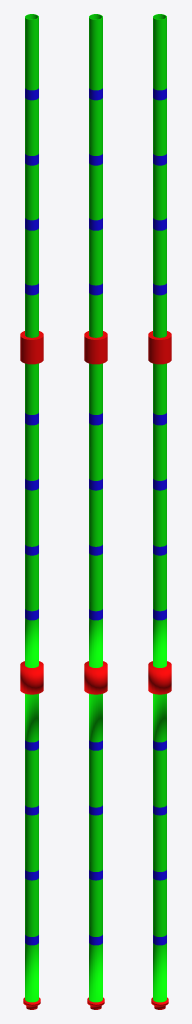
The model's file is Sludge Jugde 5 Final.FBX.
The picture shows the model from 3 angles, left to right: view 1: azimuth 90°, elevation 25°; view 2: azimuth 150°, elevation 25°; view 3: azimuth 330°, elevation 25°; orthographic projection.
Parts seen in each view (by area): view 1: Sludge Judge section 1; view 2: Sludge Judge section 1; view 3: Sludge Judge section 1.
Boxes of the visible parts, x1,y1,x2,y2 form: Sludge Judge section 1: (20,14,43,1009); Sludge Judge section 1: (84,14,107,1009); Sludge Judge section 1: (148,14,171,1009).
Bounding box in the file's own units: 10.05 × 457 × 9.9.
